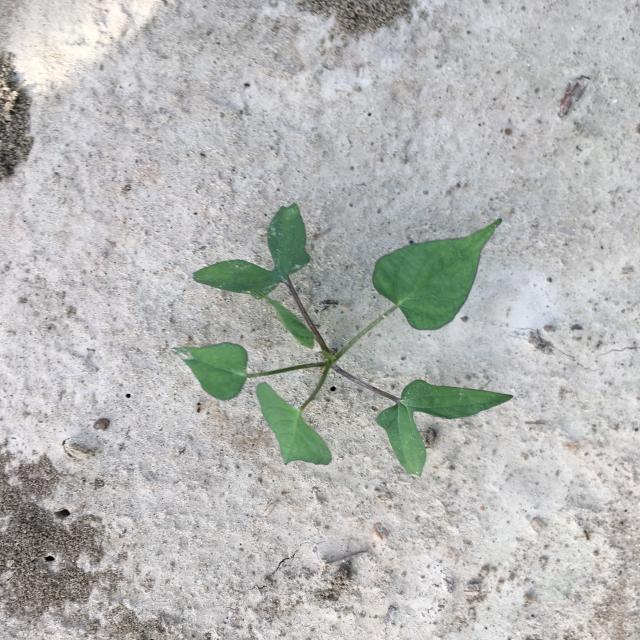MorningGlory: (172, 202, 513, 478)
